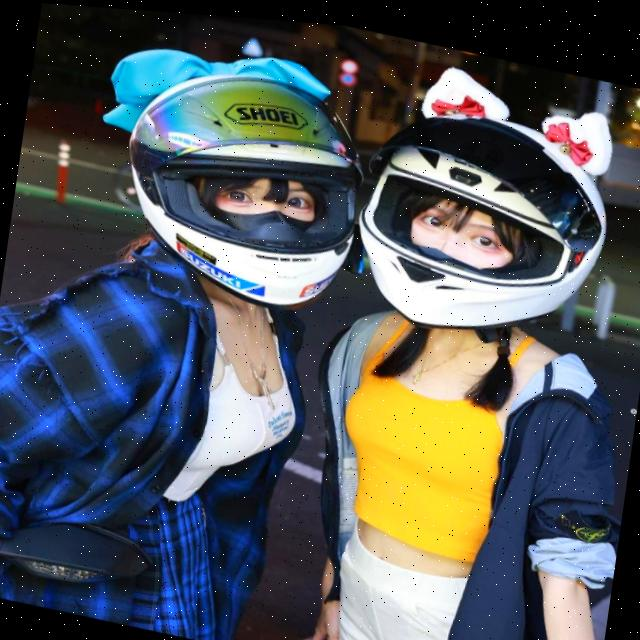helmet: (342, 79, 625, 360), (105, 41, 382, 326)
